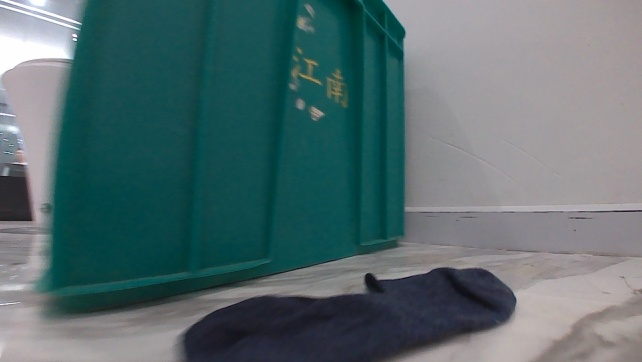socks: (177, 262, 519, 361)
toilet: (0, 55, 75, 231)
